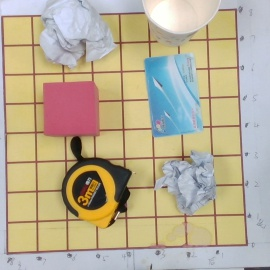card: (143, 52, 204, 138)
cup: (138, 1, 222, 47)
